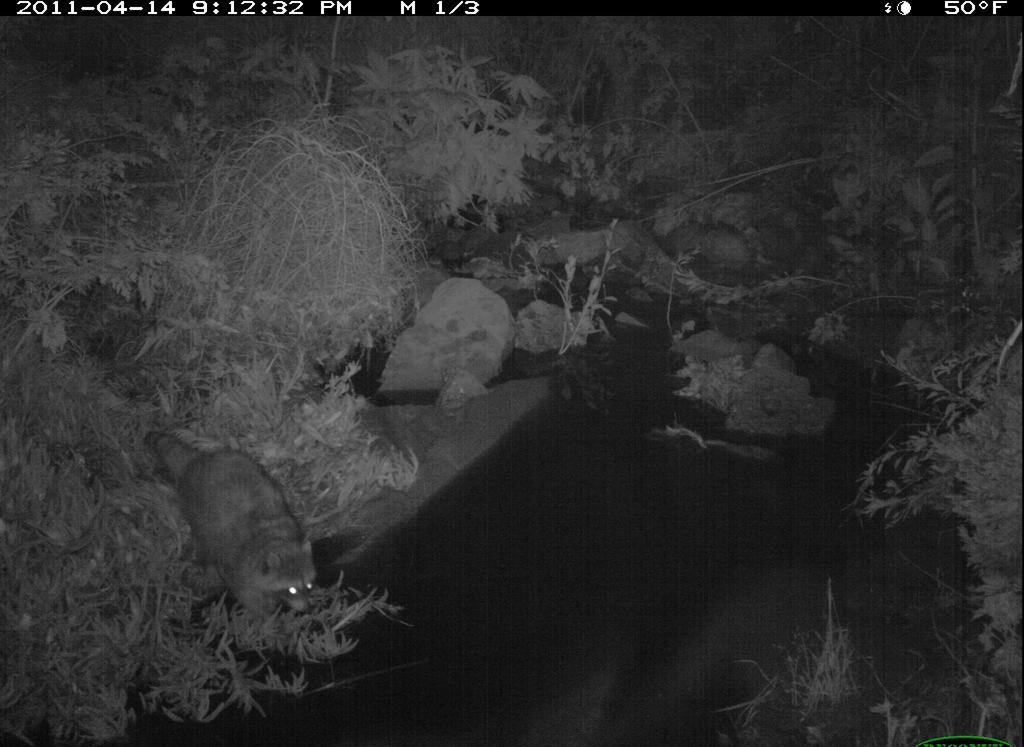raccoon: (130, 422, 329, 638)
